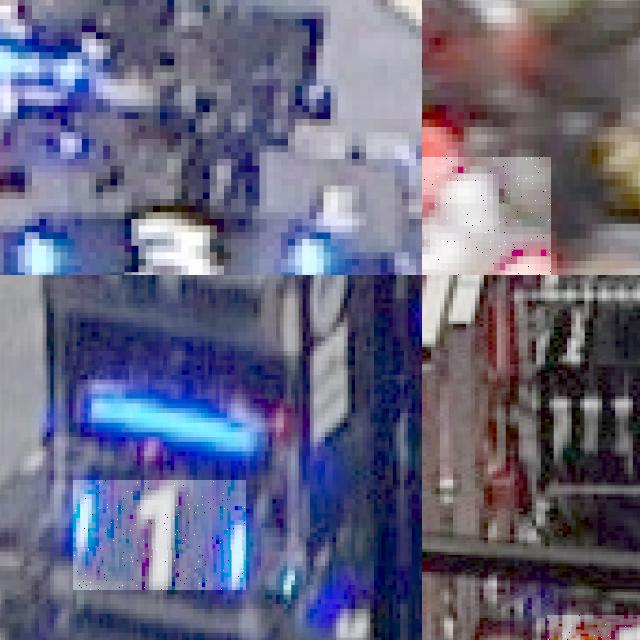B1: (73, 480, 246, 590)
R5: (422, 156, 551, 275)
